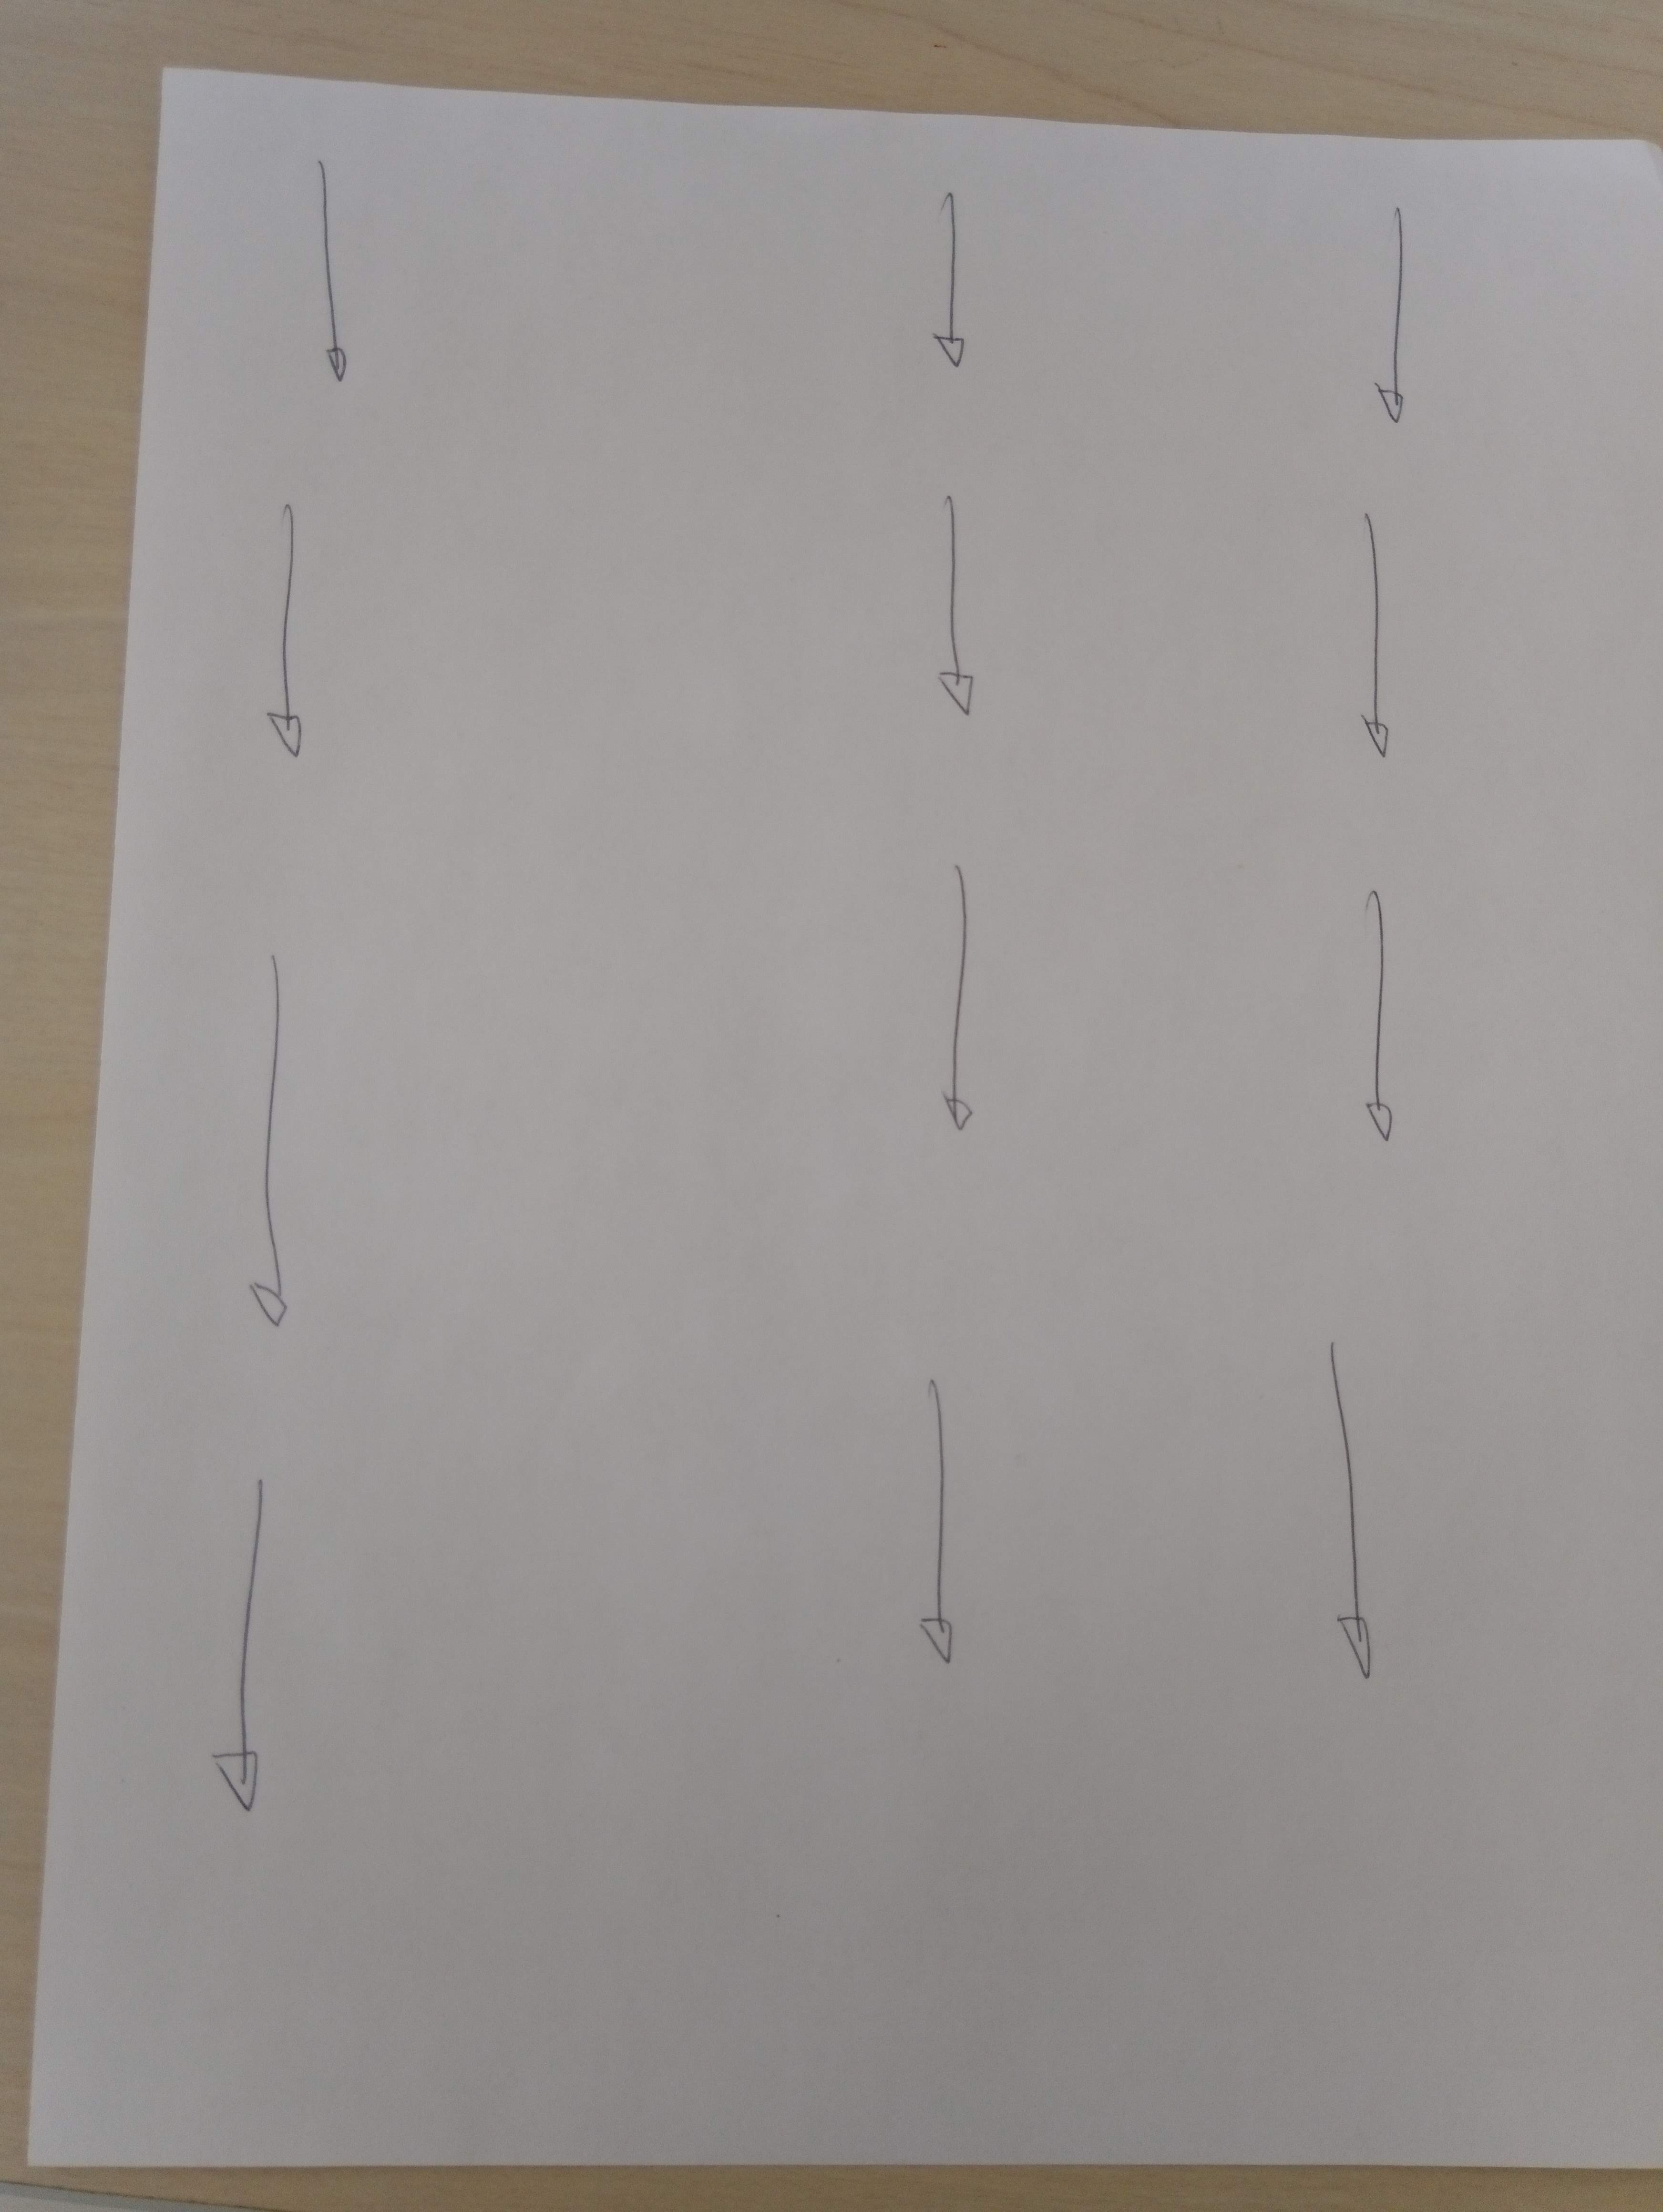arrow_line_down: (1303, 1344, 1397, 1697), (232, 941, 313, 1332), (210, 1468, 293, 1828), (257, 498, 349, 775), (300, 159, 404, 402), (1340, 498, 1417, 768), (1343, 878, 1420, 1142), (910, 1388, 976, 1678), (1357, 185, 1431, 428), (921, 494, 994, 735), (936, 871, 987, 1142), (914, 189, 990, 365)
